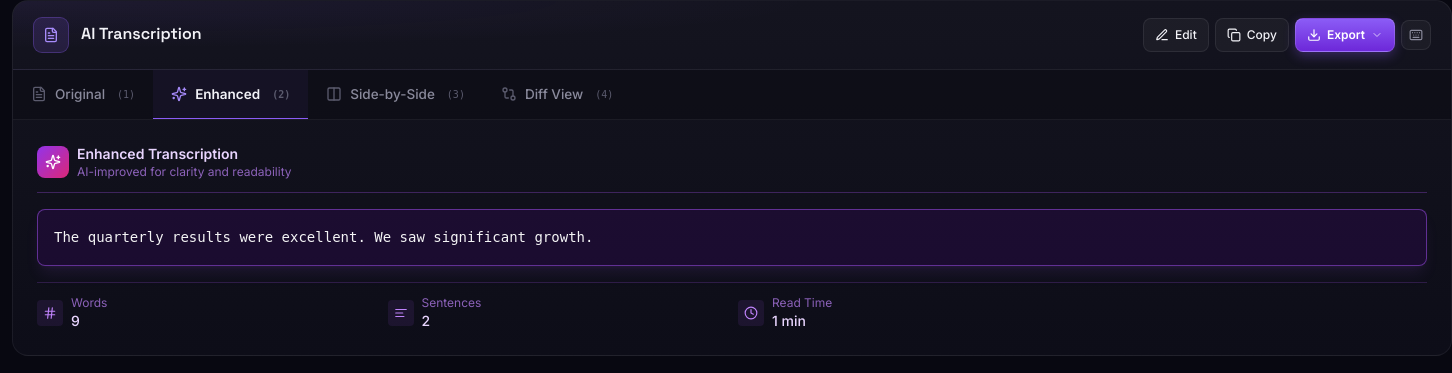
it: TabbedTranscriptionView › Tab Navigation › switches tabs on click
This screenshot has width=1452, height=373.
What coordinates should you click on to do the following:
click the tab "Original (1)"
I would click on:
 (83, 95)
Its box is [13,70,153,120].
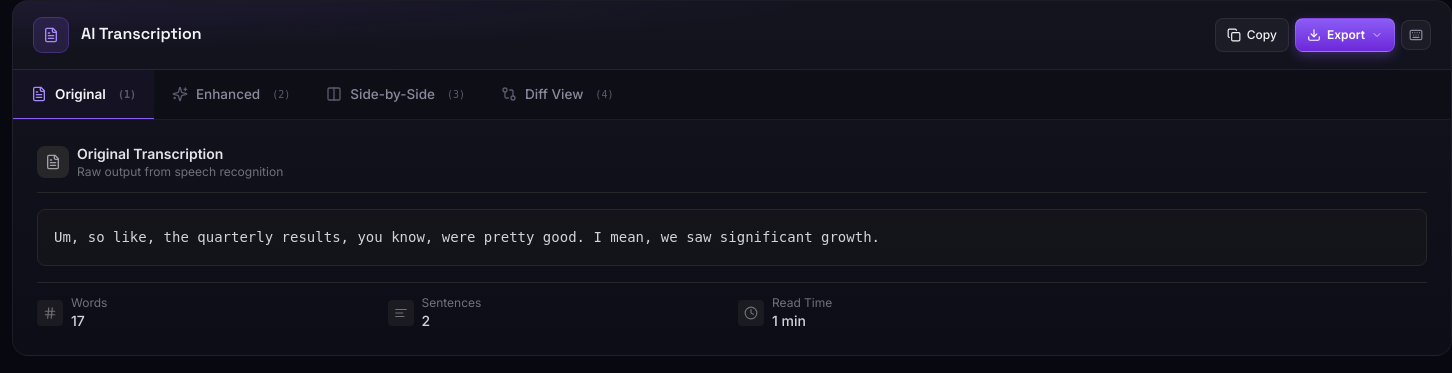
Check: the panel "Original" is shown, box [37,144,1427,331]
